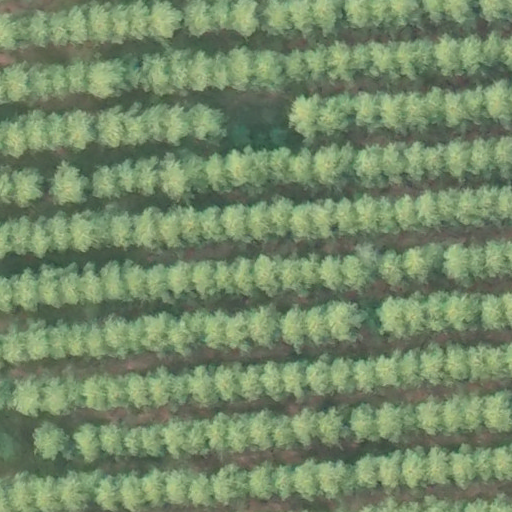eucalipto: (148, 101, 194, 148), (374, 289, 413, 344), (27, 415, 72, 461), (287, 90, 325, 144), (191, 100, 231, 148), (325, 297, 365, 344), (95, 104, 132, 153), (51, 161, 91, 206), (441, 239, 475, 287), (231, 253, 264, 301), (248, 302, 282, 348), (87, 60, 125, 101), (404, 243, 442, 284), (377, 88, 410, 135), (213, 464, 249, 507), (72, 420, 107, 464), (8, 268, 43, 312), (150, 365, 186, 407), (251, 49, 286, 92), (482, 387, 512, 437), (224, 41, 254, 91), (293, 456, 324, 504), (1, 112, 31, 161), (41, 370, 72, 417), (143, 51, 172, 101), (77, 259, 106, 309), (338, 253, 374, 293), (58, 470, 92, 512), (284, 199, 315, 245), (375, 398, 406, 444), (481, 236, 512, 282), (280, 304, 310, 351), (144, 261, 176, 305), (367, 34, 399, 78), (63, 107, 95, 151), (187, 365, 219, 409), (357, 144, 388, 189), (377, 244, 408, 289), (479, 290, 510, 335), (158, 154, 189, 199), (291, 405, 321, 451), (455, 187, 487, 230), (220, 202, 251, 246), (305, 354, 336, 398), (191, 258, 222, 302), (187, 49, 217, 94), (14, 166, 46, 208), (139, 464, 167, 512), (81, 368, 112, 411), (448, 290, 479, 333), (91, 164, 125, 203), (412, 396, 445, 436), (120, 369, 150, 413), (377, 447, 406, 492), (10, 375, 41, 417), (434, 35, 465, 77), (82, 318, 112, 361), (333, 192, 360, 239), (450, 444, 478, 489), (238, 361, 267, 404), (441, 87, 470, 129), (350, 401, 377, 446), (38, 263, 63, 311), (226, 144, 252, 190), (354, 354, 381, 398), (444, 136, 471, 180), (248, 409, 272, 458), (105, 313, 130, 360), (25, 316, 50, 363), (142, 312, 172, 351), (248, 143, 272, 191), (110, 210, 138, 251), (425, 444, 453, 485), (245, 199, 271, 243), (248, 459, 272, 506), (160, 205, 185, 250), (399, 347, 424, 392), (163, 468, 189, 511), (272, 459, 297, 503), (421, 343, 446, 387), (45, 319, 71, 361), (188, 473, 216, 512), (144, 421, 171, 461), (351, 89, 378, 129), (66, 4, 90, 48), (29, 215, 53, 259), (119, 468, 143, 512), (95, 472, 121, 512), (63, 60, 91, 97), (443, 393, 467, 435), (354, 452, 381, 489), (206, 151, 229, 194), (225, 313, 250, 352), (44, 110, 66, 154), (376, 352, 401, 389), (215, 362, 238, 402), (271, 418, 298, 452), (201, 205, 224, 244), (396, 194, 420, 230), (474, 444, 496, 483)
